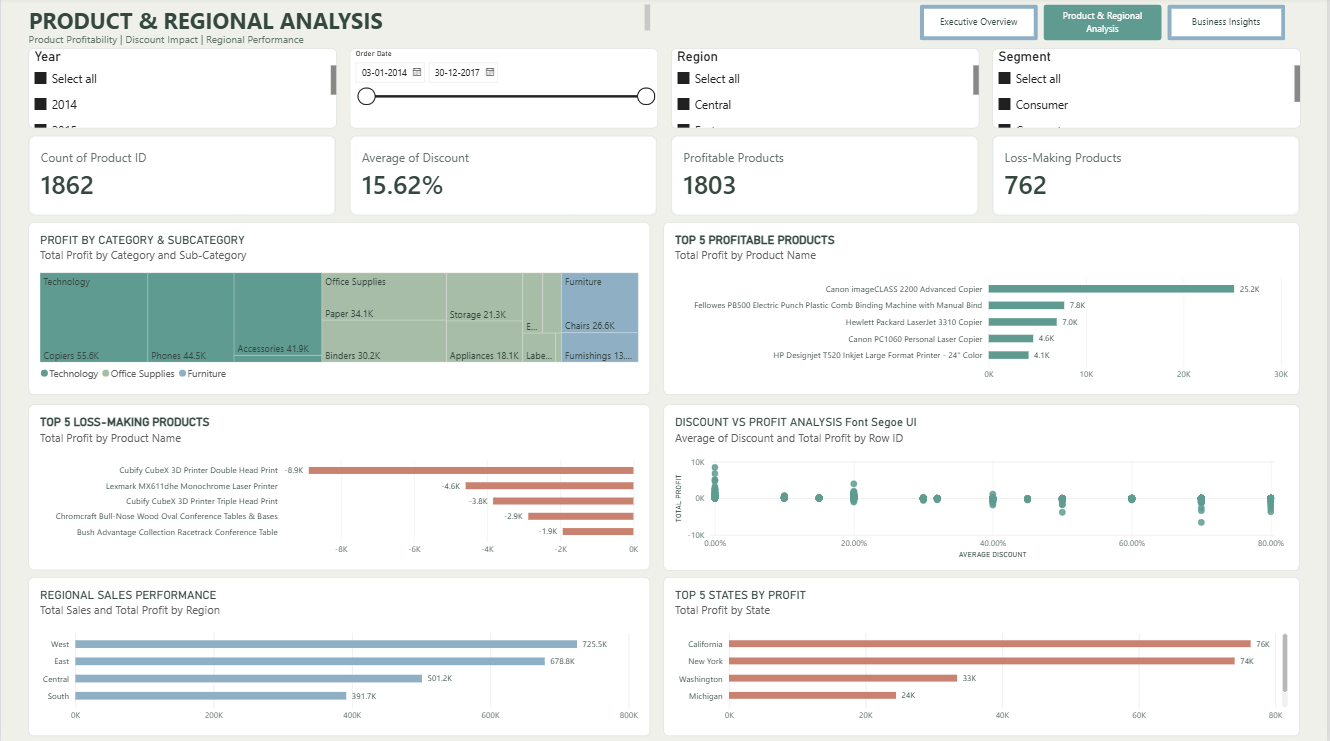

The page's visual inventory and layout, read from the dashboard file:
{"tool":"powerbi","page":{"name":"\tProduct & Regional Analysis","canvas":[1920,1080],"ordinal":1},"visuals":[{"type":"textbox","box":[40,10,900,40],"z":0},{"type":"textbox","box":[40,50,900,25],"z":1000},{"type":"cardVisual","fields":{"Data":["Count(superstore_cleaned.Product ID)"]},"box":[40,200,445,115],"z":2000},{"type":"cardVisual","fields":{"Data":["Avg(superstore_cleaned.Discount)"]},"box":[505,200,445,115],"z":3000},{"type":"cardVisual","fields":{"Data":["superstore_cleaned.Profitable Products"]},"box":[970,200,445,115],"z":4000},{"type":"cardVisual","fields":{"Data":["superstore_cleaned.Loss-Making Products"]},"box":[1435,200,445,115],"z":5000},{"type":"slicer","fields":{"Values":["superstore_cleaned.Year"]},"box":[40,75,446,116],"z":6000},{"type":"slicer","fields":{"Values":["superstore_cleaned.Order Date"]},"box":[505,75,446,116],"z":7000},{"type":"slicer","fields":{"Values":["superstore_cleaned.Region"]},"box":[970,75,446,116],"z":8000},{"type":"slicer","fields":{"Values":["superstore_cleaned.Segment"]},"box":[1435.1,75,446,116],"z":9000},{"type":"treemap","title":"PROFIT BY CATEGORY & SUBCATEGORY","fields":{"Details":["superstore_cleaned.Sub-Category"],"Group":["superstore_cleaned.Category"],"Values":["superstore_cleaned.Total Profit"]},"box":[40,325,900,250],"z":10000},{"type":"clusteredBarChart","title":"TOP 5 PROFITABLE PRODUCTS","fields":{"Category":["superstore_cleaned.Product Name"],"Y":["superstore_cleaned.Total Profit"]},"box":[960,325,921,250],"z":11000},{"type":"clusteredBarChart","title":"TOP 5 LOSS-MAKING PRODUCTS","fields":{"Category":["superstore_cleaned.Product Name"],"Y":["superstore_cleaned.Total Profit"]},"box":[40,590,900,240],"z":12000},{"type":"scatterChart","title":"DISCOUNT VS PROFIT ANALYSIS Font\tSegoe UI","fields":{"Category":["superstore_cleaned.Row ID"],"X":["superstore_cleaned.Discount"],"Y":["superstore_cleaned.Total Profit"]},"box":[959.1,589.9,921.1,240.7],"z":13000},{"type":"clusteredBarChart","title":"REGIONAL SALES PERFORMANCE","fields":{"Category":["superstore_cleaned.Region"],"Y":["superstore_cleaned.Total Sales"]},"box":[40,840,900,230],"z":14000},{"type":"clusteredBarChart","title":"TOP 5 STATES BY PROFIT","fields":{"Category":["superstore_cleaned.State"],"Y":["superstore_cleaned.Total Profit"]},"box":[960,840,921,230],"z":14001},{"type":"pageNavigator","box":[1330,10,530.2,52.5],"z":14002}]}

Visuals, with their boxes in screenshot pixels (x1, y1, x2, y2), scaled from the page's 1920x1080 canvas onto the 1330x741 screenshot:
textbox: 28:7:651:34
textbox: 28:34:651:51
cardVisual - Count(superstore_cleaned.Product ID): 28:137:336:216
cardVisual - Avg(superstore_cleaned.Discount): 350:137:658:216
cardVisual - superstore_cleaned.Profitable Products: 672:137:980:216
cardVisual - superstore_cleaned.Loss-Making Products: 994:137:1302:216
slicer - superstore_cleaned.Year: 28:51:337:131
slicer - superstore_cleaned.Order Date: 350:51:659:131
slicer - superstore_cleaned.Region: 672:51:981:131
slicer - superstore_cleaned.Segment: 994:51:1303:131
"PROFIT BY CATEGORY & SUBCATEGORY" treemap: 28:223:651:395
"TOP 5 PROFITABLE PRODUCTS" clusteredBarChart: 665:223:1303:395
"TOP 5 LOSS-MAKING PRODUCTS" clusteredBarChart: 28:405:651:569
"DISCOUNT VS PROFIT ANALYSIS Font	Segoe UI" scatterChart: 664:405:1302:570
"REGIONAL SALES PERFORMANCE" clusteredBarChart: 28:576:651:734
"TOP 5 STATES BY PROFIT" clusteredBarChart: 665:576:1303:734
pageNavigator: 921:7:1289:43
